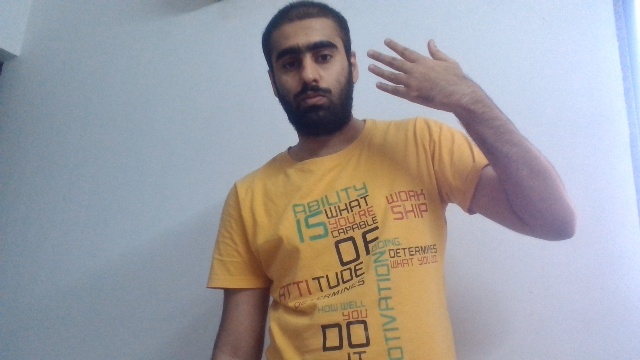paper: (366, 36, 466, 113)
